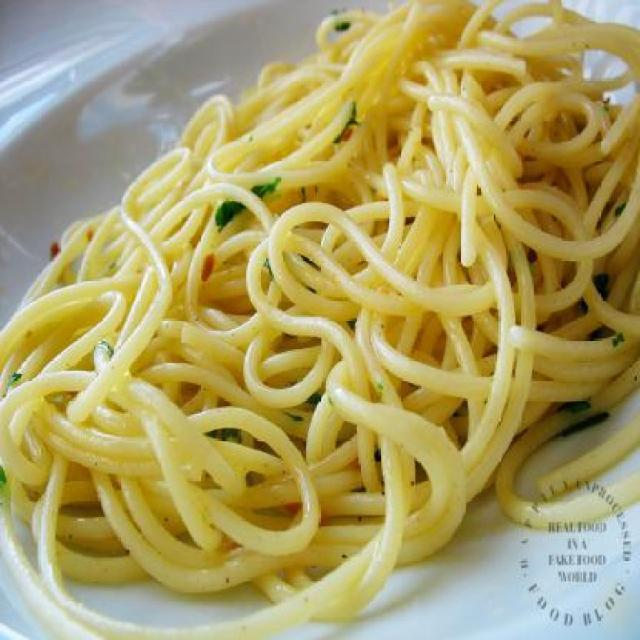Oil pasta: (15, 8, 640, 600)
